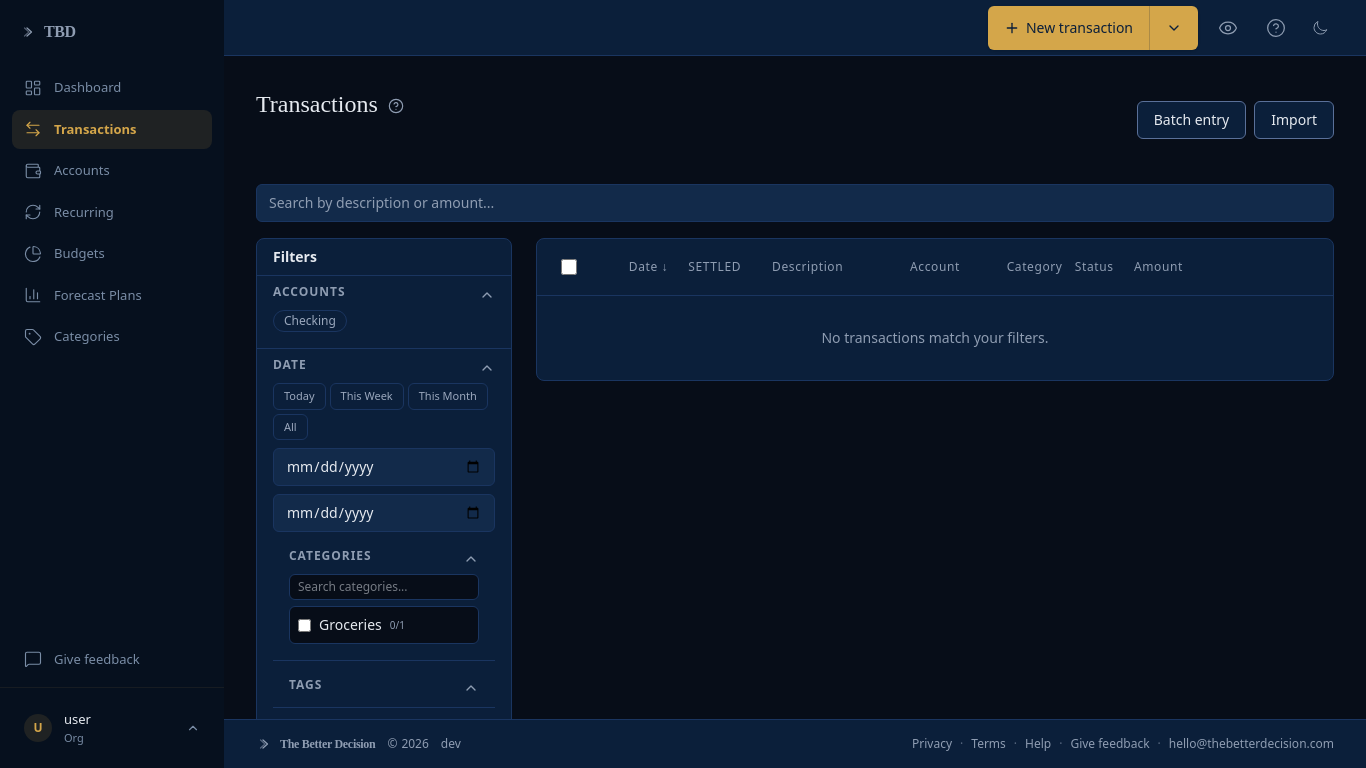
TransactionsPage — sort direction across columns (Option B) › Switching from Description (asc) to Amount applies Amount's natural default (desc), not asc
Note: First click description so we're on an asc column.
Click the button "Description" at [808, 267], box x1=752 y1=251 x2=863 y2=283
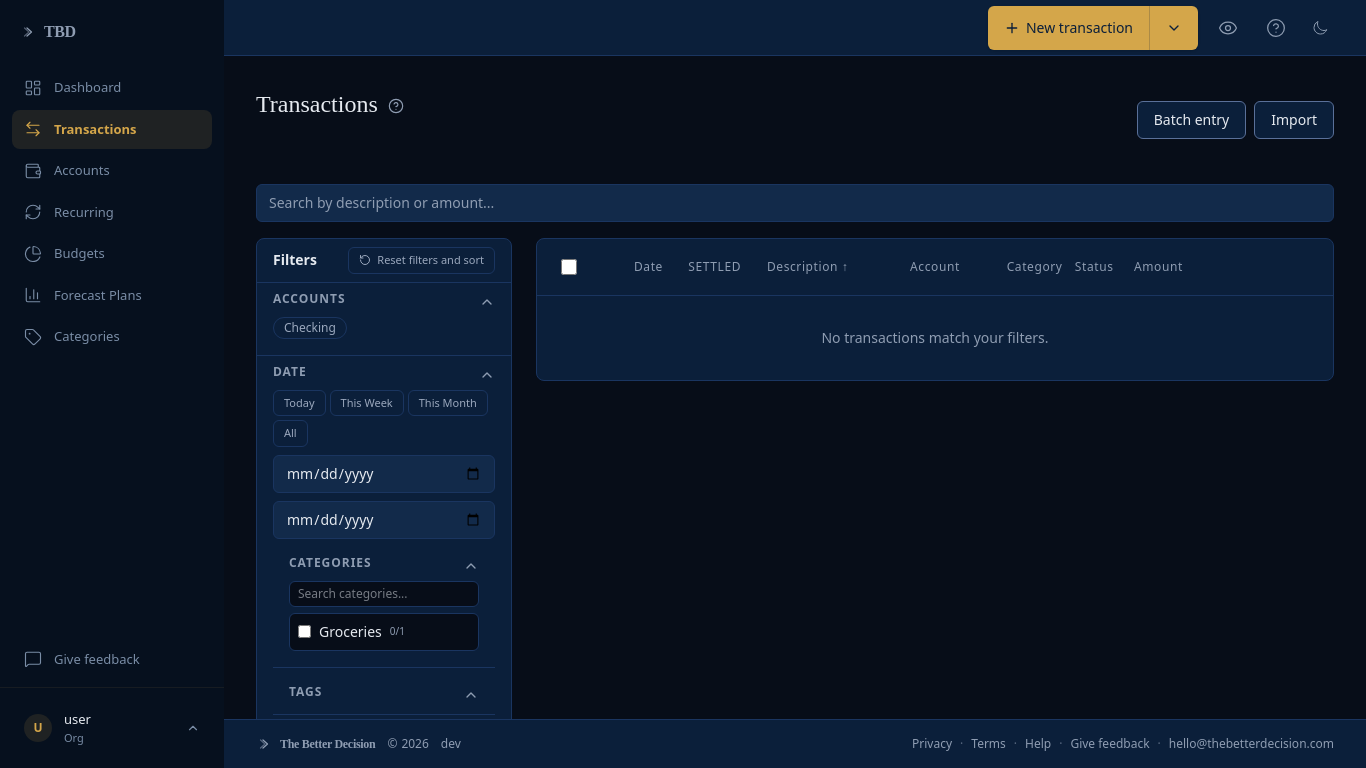
Expected: the button "Description ↑" is shown, x1=752 y1=251 x2=863 y2=283
Click the button "Amount" at [1158, 267], box x1=1134 y1=251 x2=1182 y2=283
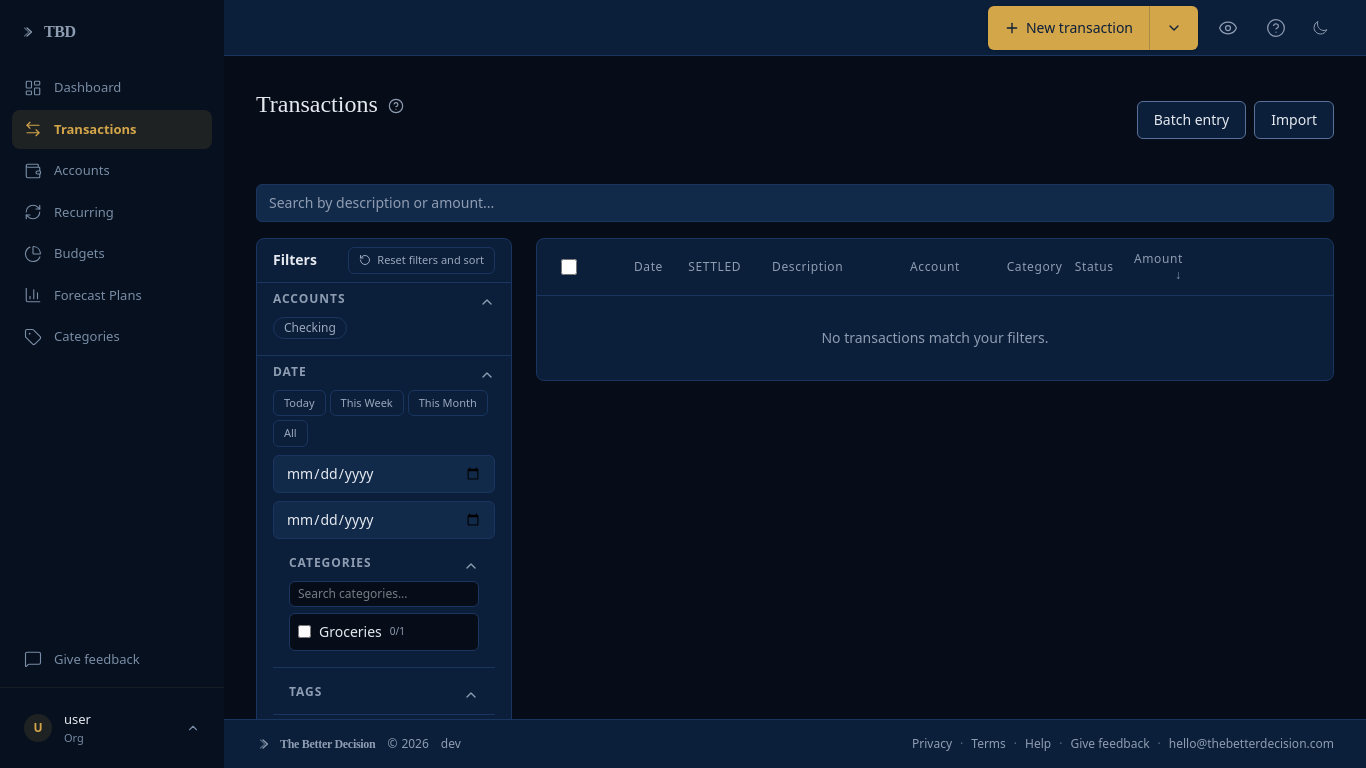
Expected: the button "Amount ↓" is shown, x1=1134 y1=251 x2=1182 y2=283
